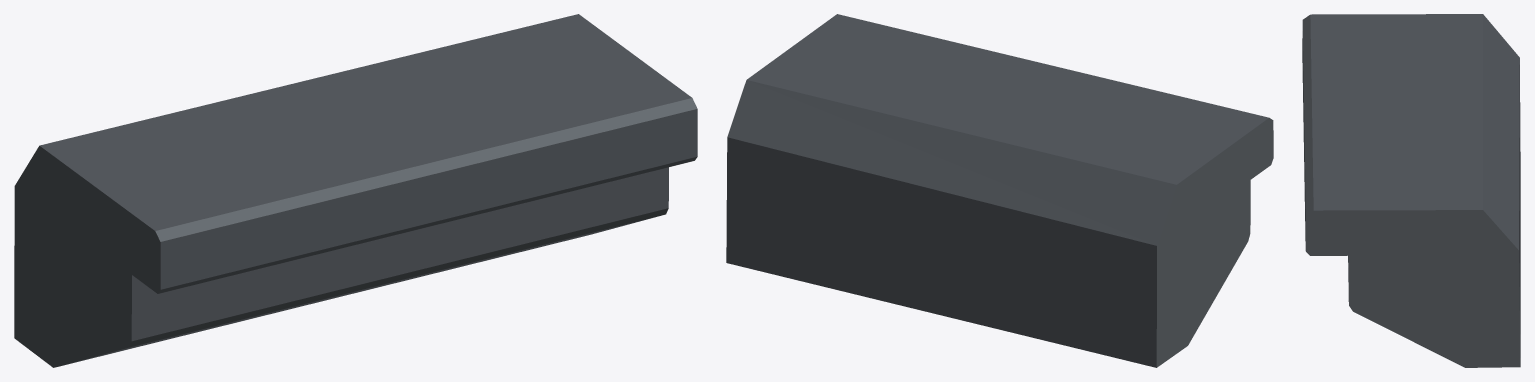
Rendered from MCastle_TurretMasonry_01.FBX.
3 renders of one model, left to right at view 1: azimuth 30°, elevation 25°; view 2: azimuth 150°, elevation 25°; view 3: azimuth 270°, elevation 25°, orthographic. The views are drawn at different scales.
Parts seen in each view (by area): view 1: MCastle_TurretMasonry_01_LOD0; view 2: MCastle_TurretMasonry_01_LOD0; view 3: MCastle_TurretMasonry_01_LOD0.
Part boxes in pixels (x1,y1,x2,y2): MCastle_TurretMasonry_01_LOD0: (14,14,697,367); MCastle_TurretMasonry_01_LOD0: (726,14,1273,367); MCastle_TurretMasonry_01_LOD0: (1302,14,1520,367).
Size of what is drawn, in the model's own units: 4 by 1.5 by 1.88.
